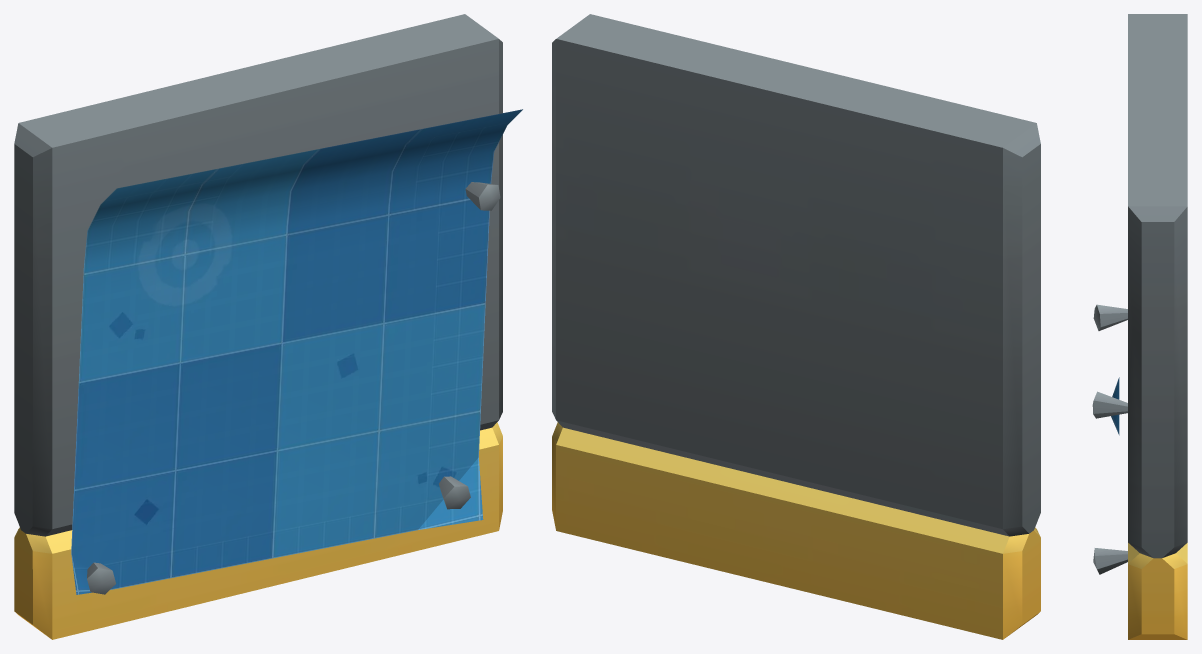
File: kaykit-prototype-bits-wall-target.glb
The picture shows the model from 3 angles, left to right: view 1: azimuth 30°, elevation 25°; view 2: azimuth 150°, elevation 25°; view 3: azimuth 270°, elevation 25°; orthographic projection. The views are drawn at different scales.
Parts seen in each view (by area): view 1: Wall_Target; view 2: Wall_Target; view 3: Wall_Target.
Boxes of the visible parts, x1,y1,x2,y2 form: Wall_Target: (14,14,522,639); Wall_Target: (552,14,1040,639); Wall_Target: (1092,14,1187,639).
Bounding box in the file's own units: 4 × 4 × 0.9912.
1 material, 1 textured.
